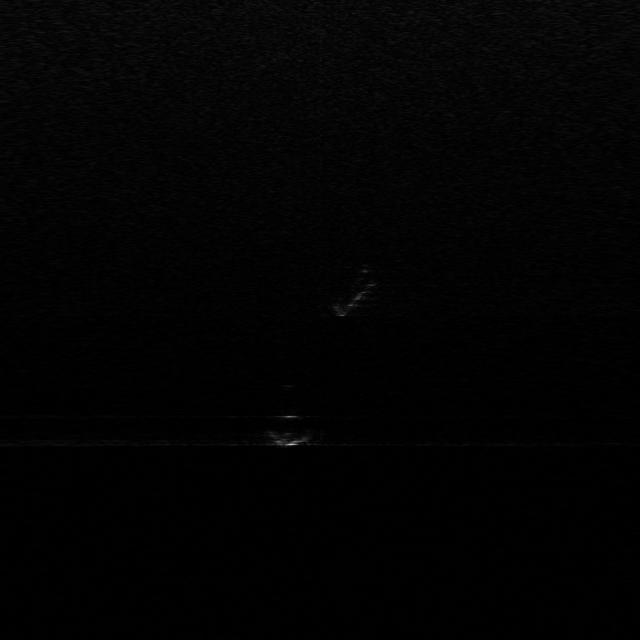ball: (262, 413, 314, 448)
tyre: (334, 271, 374, 316)
